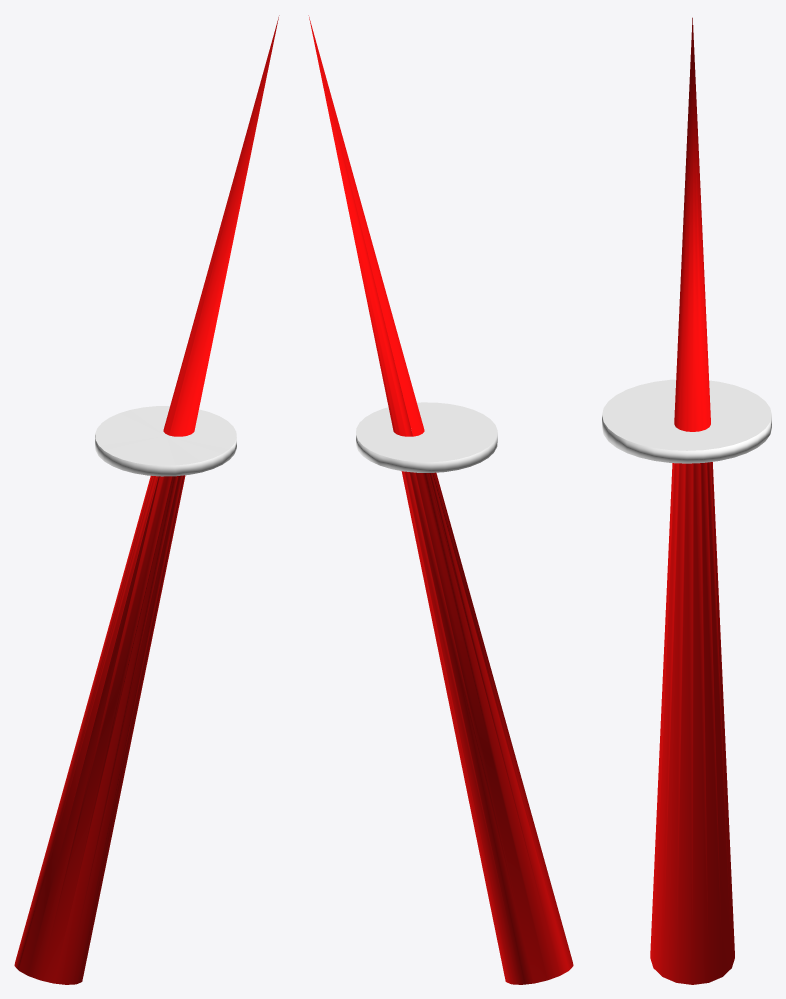
File: CrystalPillar.obj
The picture shows the model from 3 angles, left to right: view 1: azimuth 30°, elevation 25°; view 2: azimuth 150°, elevation 25°; view 3: azimuth 270°, elevation 25°; orthographic projection. The views are drawn at different scales.
Visible parts, largest first — view 1: surface0, surface1; view 2: surface0, surface1; view 3: surface0, surface1.
Boxes of the visible parts, x1,y1,x2,y2 form: surface0: (14,15,279,984); surface1: (95,406,236,476); surface0: (308,15,573,984); surface1: (356,402,497,472); surface0: (650,17,734,984); surface1: (602,379,771,463).
Bounding box in the file's own units: 50.83 × 170 × 24.
